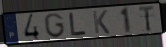1: (120, 6, 134, 36)
4: (22, 13, 42, 42)
G: (43, 12, 67, 39)
K: (92, 9, 112, 35)
L: (68, 12, 88, 37)
T: (137, 4, 156, 33)
